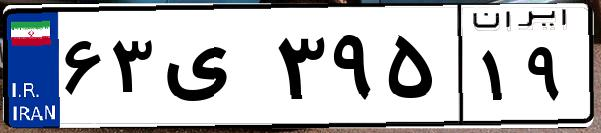1: (475, 38, 525, 113)
3: (270, 28, 330, 110), (110, 28, 158, 98)
5: (385, 28, 445, 110)
6: (57, 26, 110, 100)
9: (330, 28, 385, 110), (525, 38, 570, 115)
ی: (158, 20, 270, 120)
